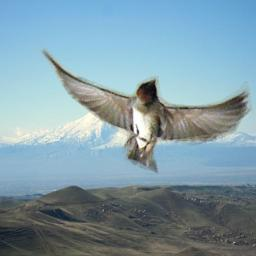Swallow: (38, 46, 253, 175)
